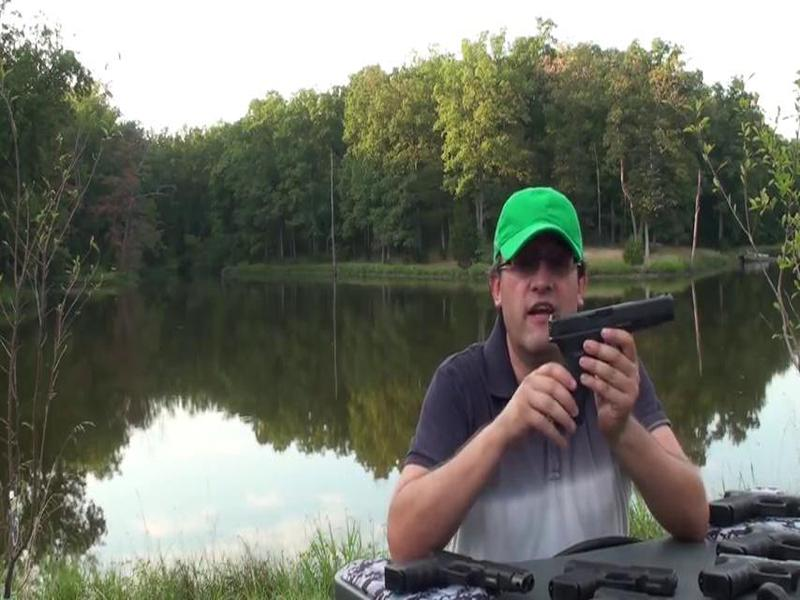Pistola: (539, 294, 676, 419), (375, 544, 538, 596), (548, 543, 678, 600)
